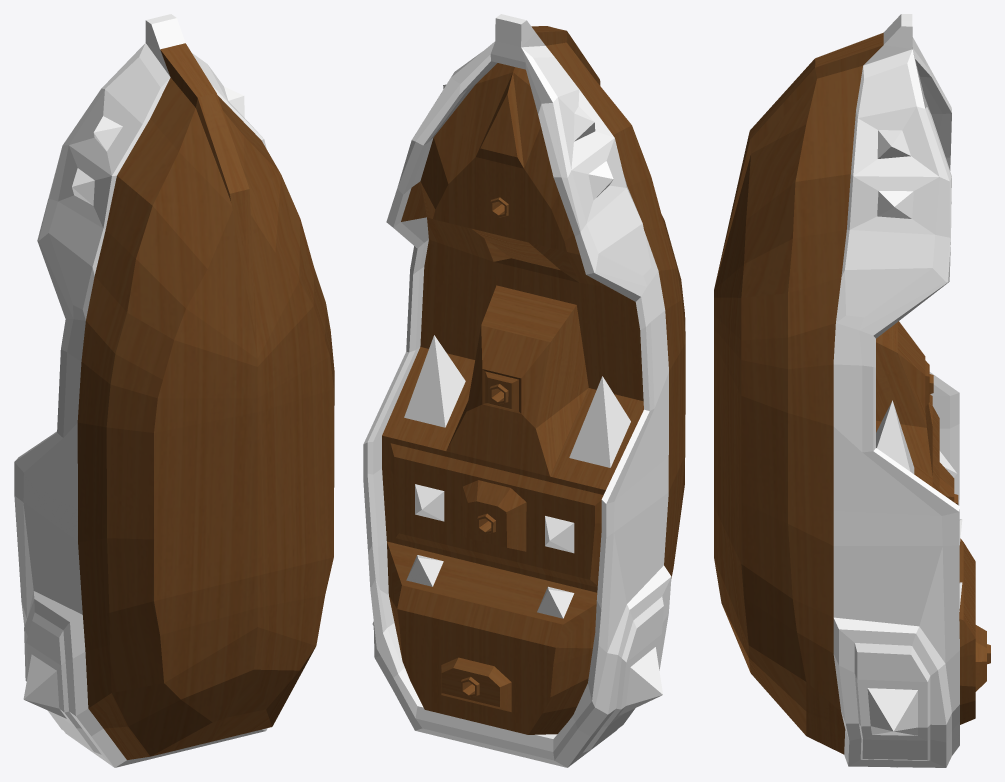
File: body_9.fbx
The picture shows the model from 3 angles, left to right: view 1: azimuth 30°, elevation 25°; view 2: azimuth 150°, elevation 25°; view 3: azimuth 270°, elevation 25°; orthographic projection.
Parts seen in each view (by area): view 1: Cube.047; view 2: Cube.047; view 3: Cube.047.
Boxes of the visible parts, left/top/right/bottom form: Cube.047: left=14, top=14, right=334, bottom=767; Cube.047: left=363, top=14, right=685, bottom=767; Cube.047: left=714, top=14, right=990, bottom=767.
Size of the model in its own units: 234 by 567 by 194.
